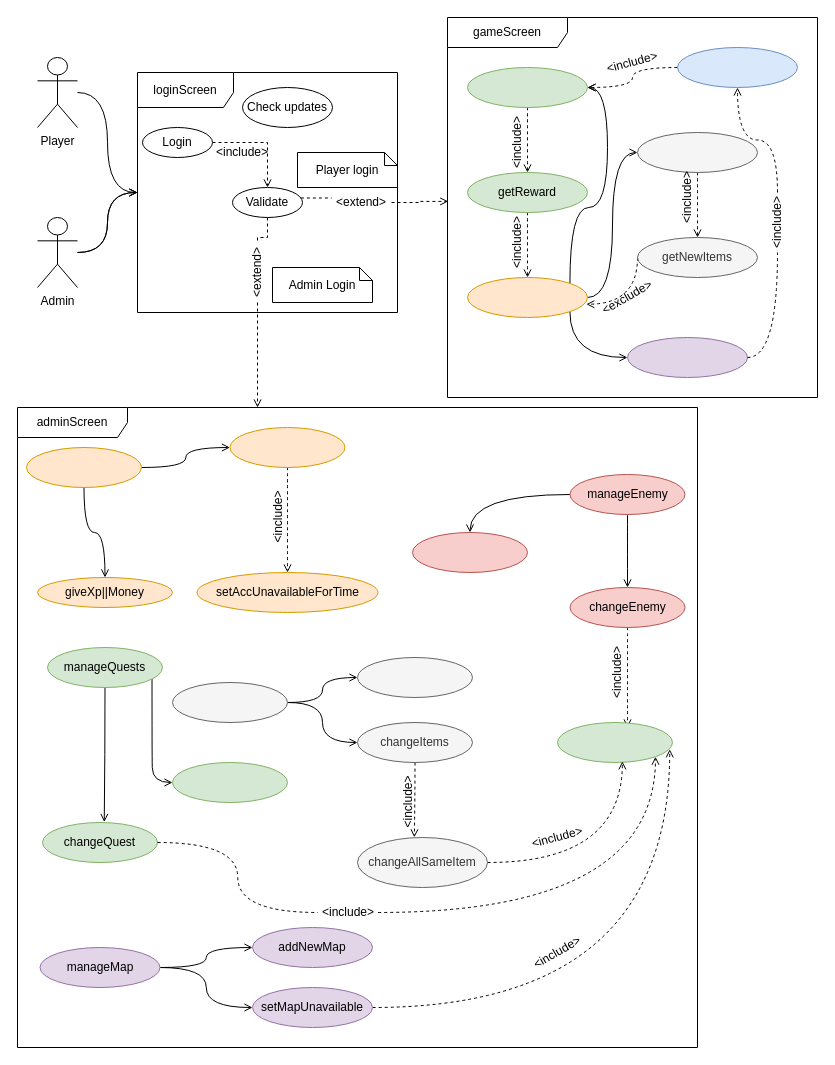
Some shapes in this 835 by 1065 pixel diagram are drawn without their labels. The shapes that lost their labels are listed below. From the top down, each one's centre as x and y in pixels, then its label:
point (527, 87): doQuest
point (737, 67): getNewQuest
point (697, 152): doShoppingItems
point (527, 297): manageCharacter
point (687, 357): travel
point (84, 467): managePlayers
point (287, 447): BANHAMMER
point (470, 552): addNewEnemy
point (414, 677): addNewItem
point (230, 702): manageItems
point (614, 742): changeQuestsDesc
point (230, 782): addNewQuest
